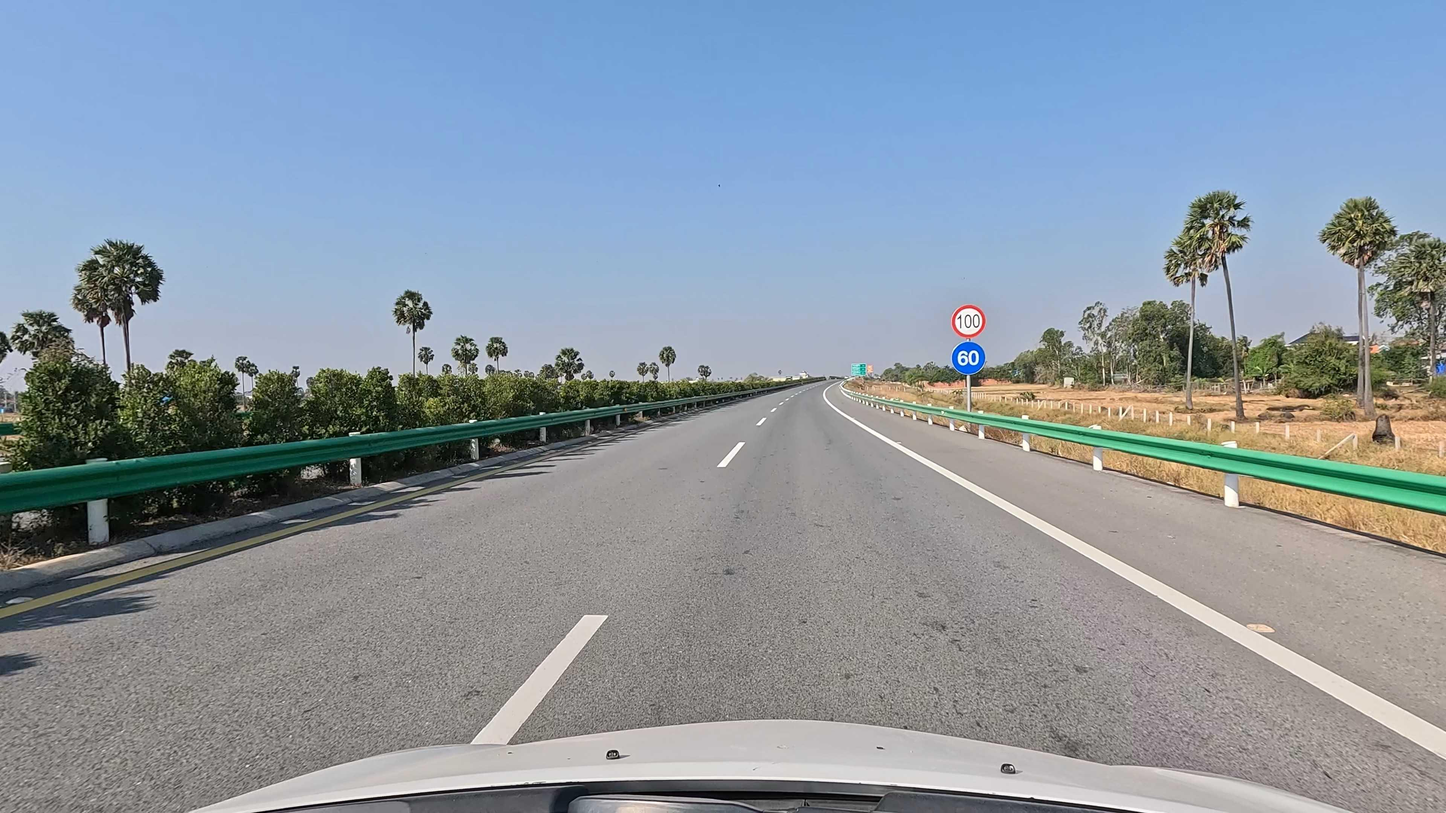speed_limit_100: (949, 304, 989, 339)
speed_limit_60: (950, 341, 987, 376)
